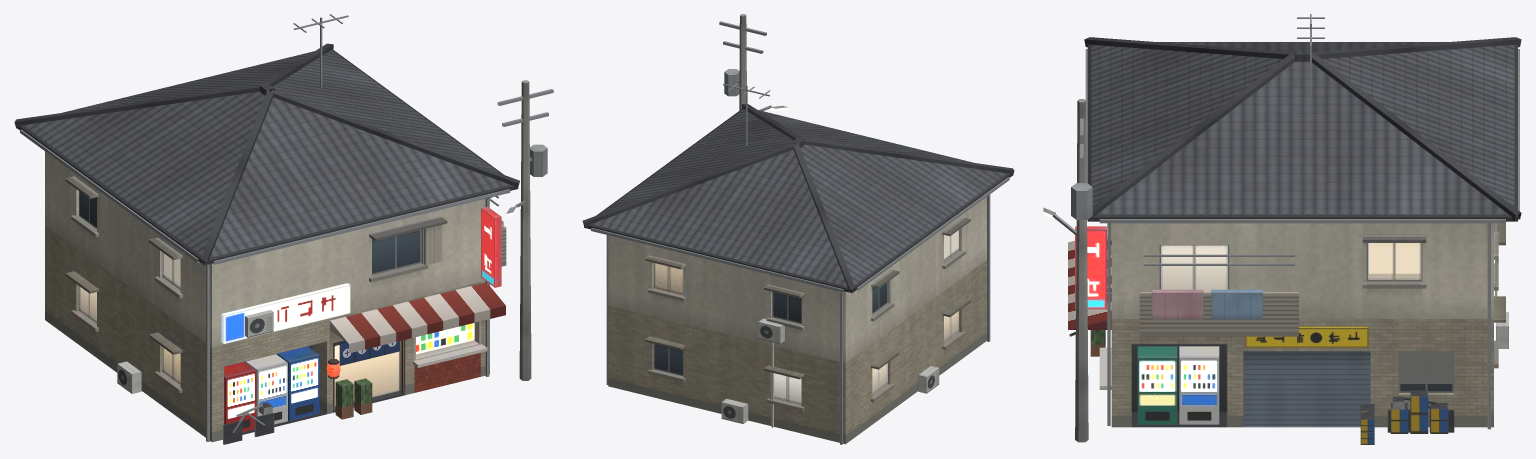
File: tokyo_house_d.glb
3 views of the same model, side by side, from view 1: azimuth 30°, elevation 25°; view 2: azimuth 150°, elevation 25°; view 3: azimuth 270°, elevation 25° (orthographic). The views are drawn at different scales.
Parts seen in each view (by area): view 1: tokyo_house_d; view 2: tokyo_house_d; view 3: tokyo_house_d.
Part boxes in pixels (<box>): tokyo_house_d: <box>14,14,553,444</box>; tokyo_house_d: <box>582,14,1014,444</box>; tokyo_house_d: <box>1043,14,1521,444</box>.
Bounding box in the file's own units: 11.54 × 9.9 × 12.
1 material, 1 textured.
